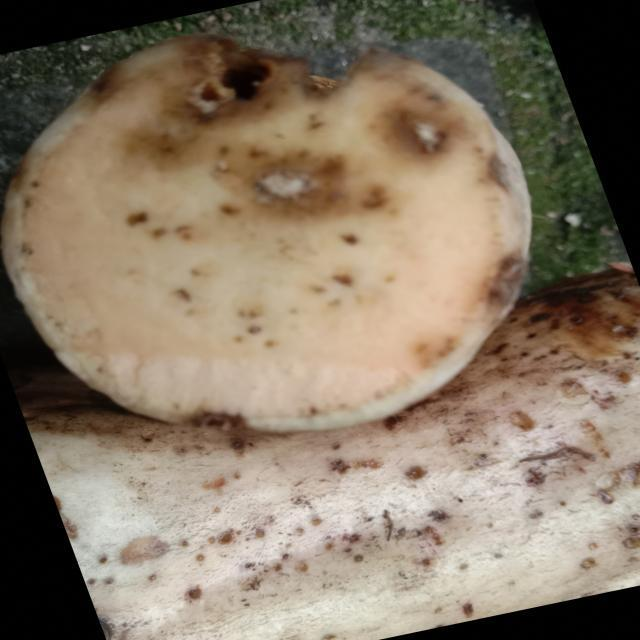Sick Sweet Potato_Tuber Rot: (3, 35, 532, 431)
